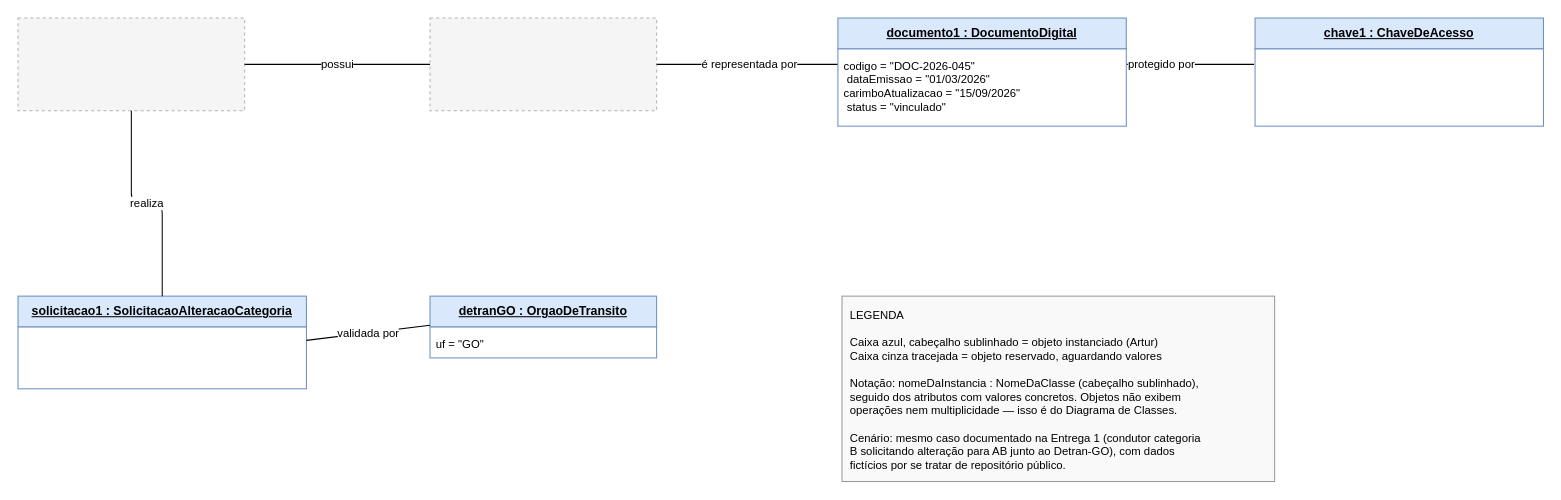
The diagram is 1561 pixels wide and 500 high, and some of its shapes have lost their labels. Here are the shapes that lost their labels. From the top down, the centre of each, then its label:
[131,64]: condutor1 : Condutor [PAPEL 3 — preencher valores dos atributos]
[543,64]: habilitacao1 : Habilitacao [PAPEL 3 — preencher valores dos atributos]
[1398,87]: codigo = "CH-7B2E" dataGeracao = "01/03/2026" validade = "01/03/2027"
[161,357]: categoriaDesejada = "AB" status = "Em análise" dataSolicitacao = 15/09/2026
